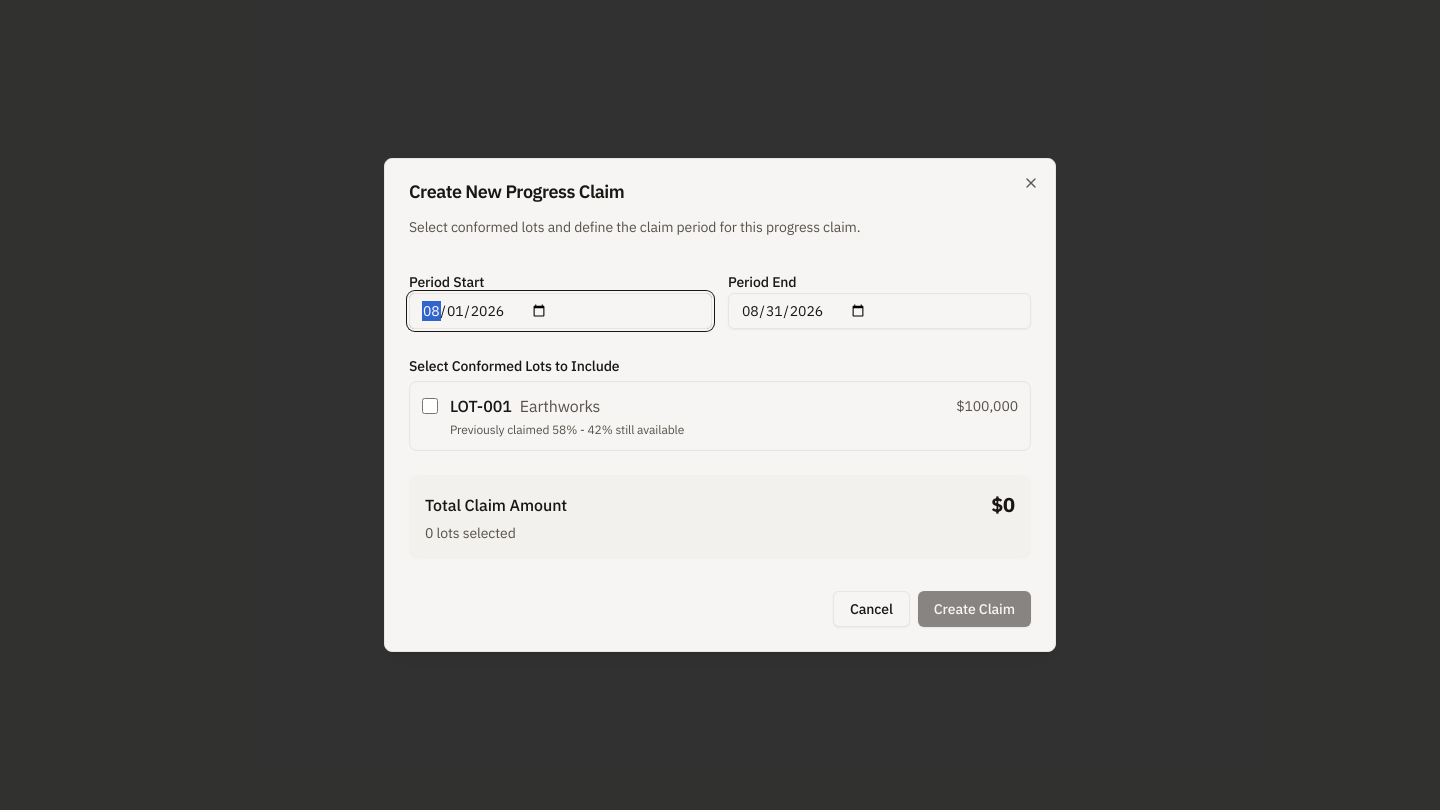
Test: CreateClaimModal shortcut values and manual overrides › puts the live remaining percentage in the shortcut button label
This screenshot has width=1440, height=810.
Expected: the text "LOT-001" is shown, [450,396,512,416]
What coordinates should you click on to do the following:
click the checkbox named "Select LOT-001"
I would click on:
 (430, 406)
Its box is [422,398,438,414].
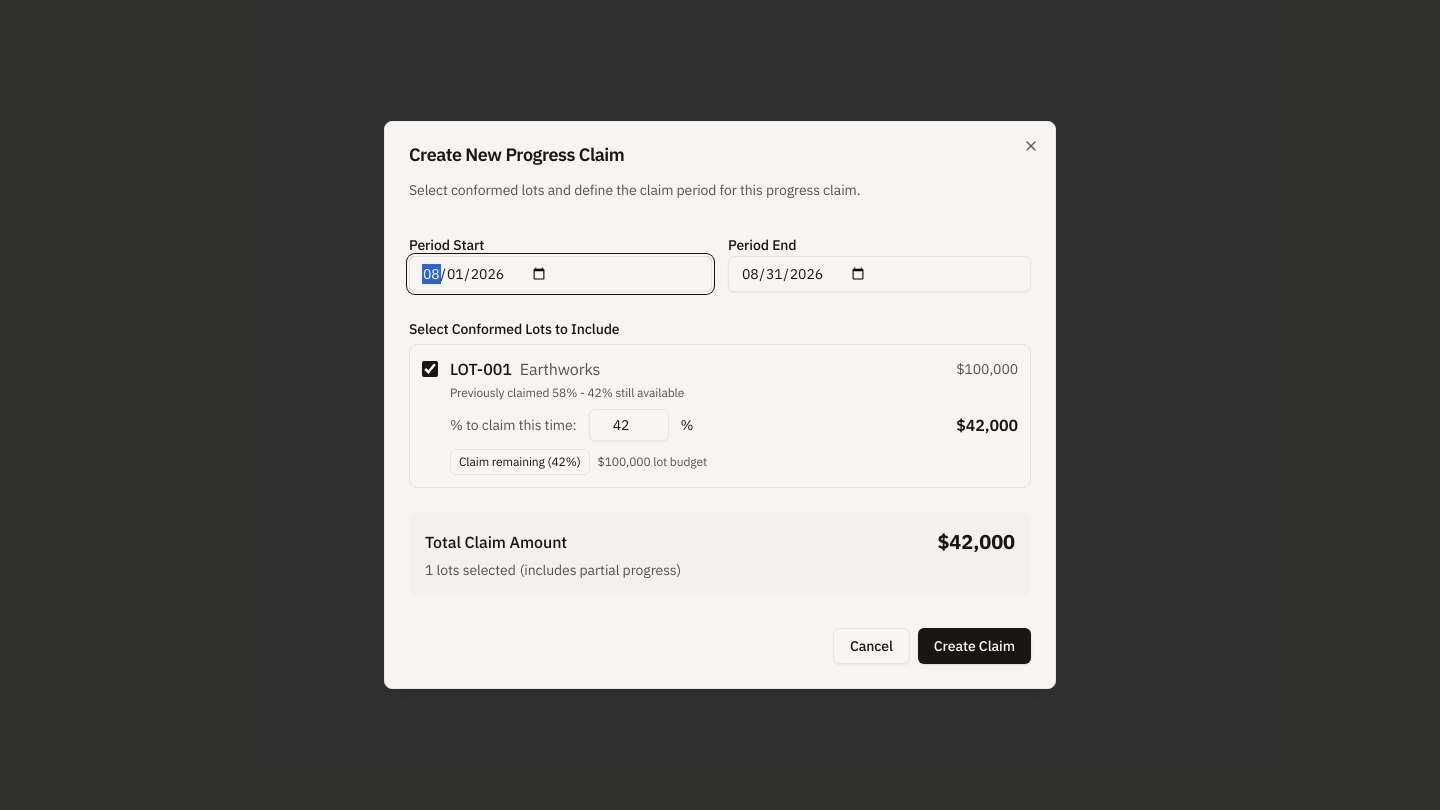
Result: the button "Claim remaining (42%)" is shown at [450,449,590,475]
Result: the number field labelled "% to claim this time:" holds "42" at [588,409,668,441]
